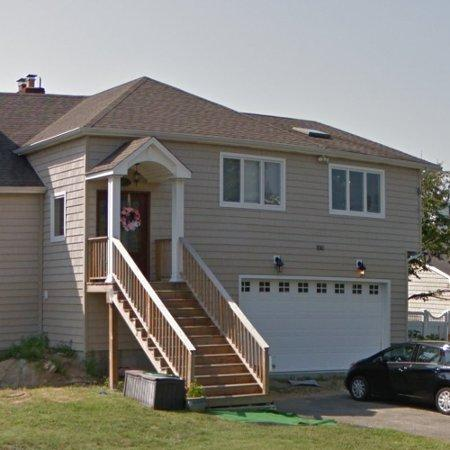stairs: (88, 239, 265, 399)
